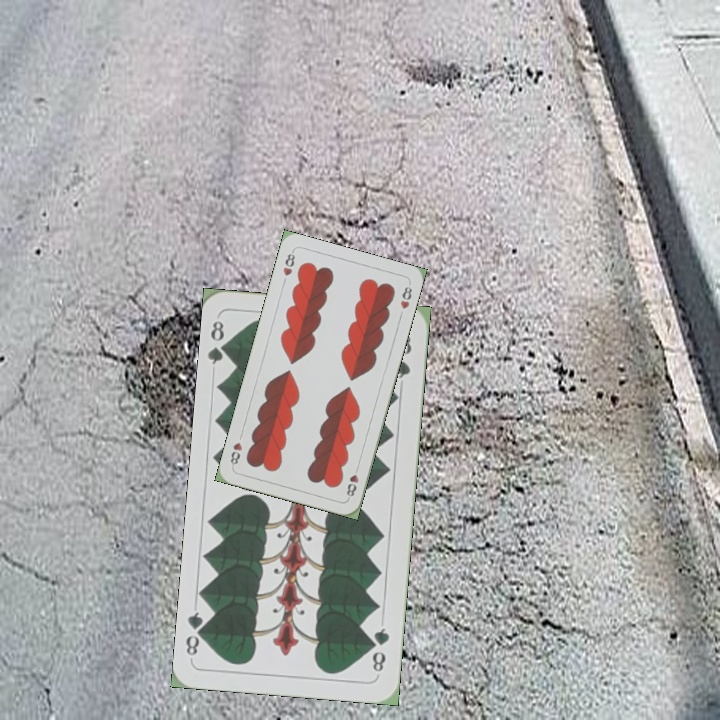G8: (204, 317, 233, 367), (367, 624, 392, 675)
H8: (343, 461, 362, 501), (279, 247, 298, 278)
